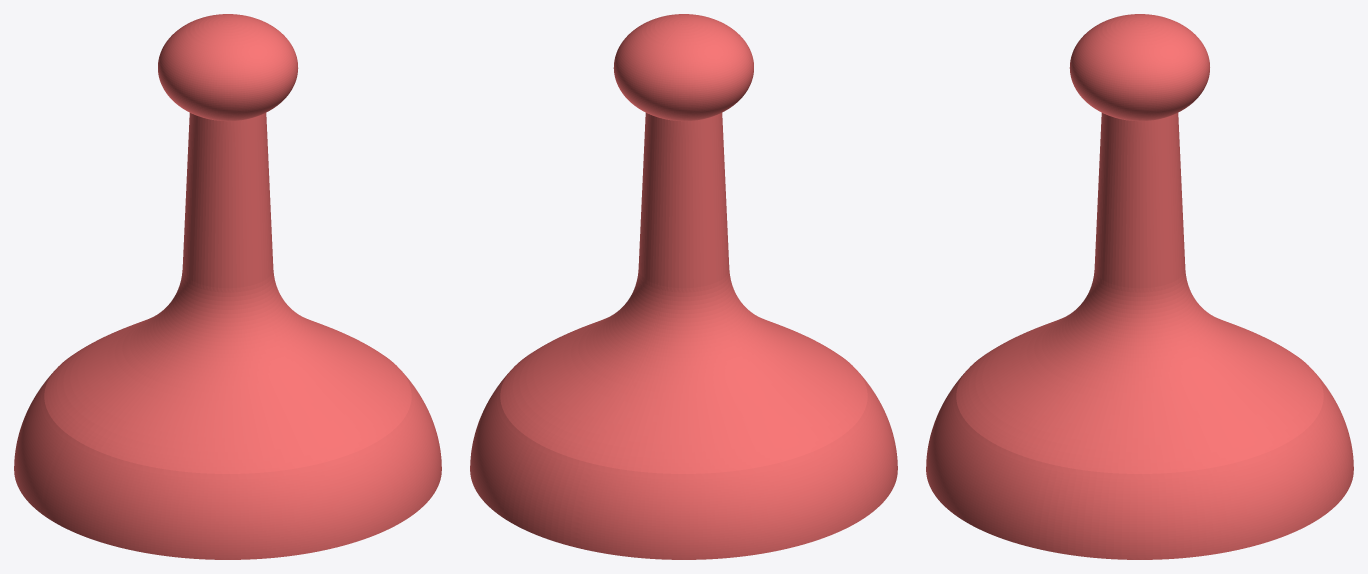
The model's file is Game_Piece_mm.glb.
3 views of the same model, side by side, from view 1: azimuth 30°, elevation 25°; view 2: azimuth 150°, elevation 25°; view 3: azimuth 270°, elevation 25° (orthographic).
Visible parts, largest first — view 1: <STL_BINARY>; view 2: <STL_BINARY>; view 3: <STL_BINARY>.
Boxes of the visible parts, x1,y1,x2,y2 form: <STL_BINARY>: (14, 14, 441, 559); <STL_BINARY>: (470, 14, 897, 559); <STL_BINARY>: (926, 14, 1353, 559).
Size of the model in its own units: 21.7 by 25 by 21.7.
